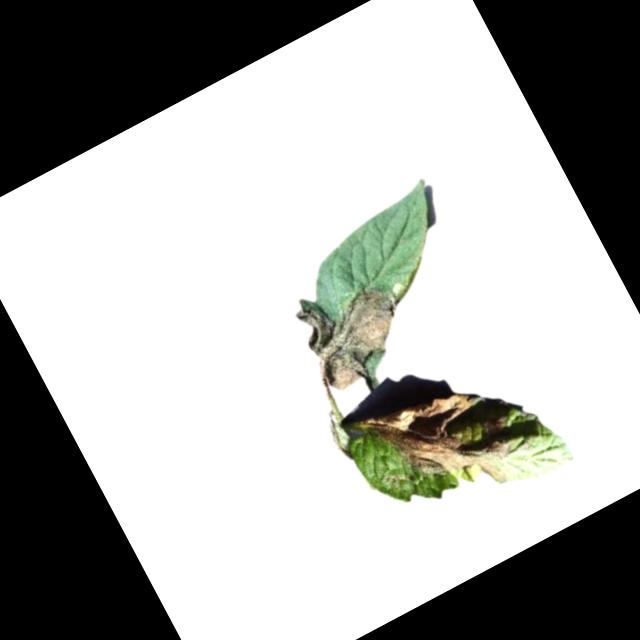Late_blight: (362, 358, 539, 529), (284, 259, 422, 397)
